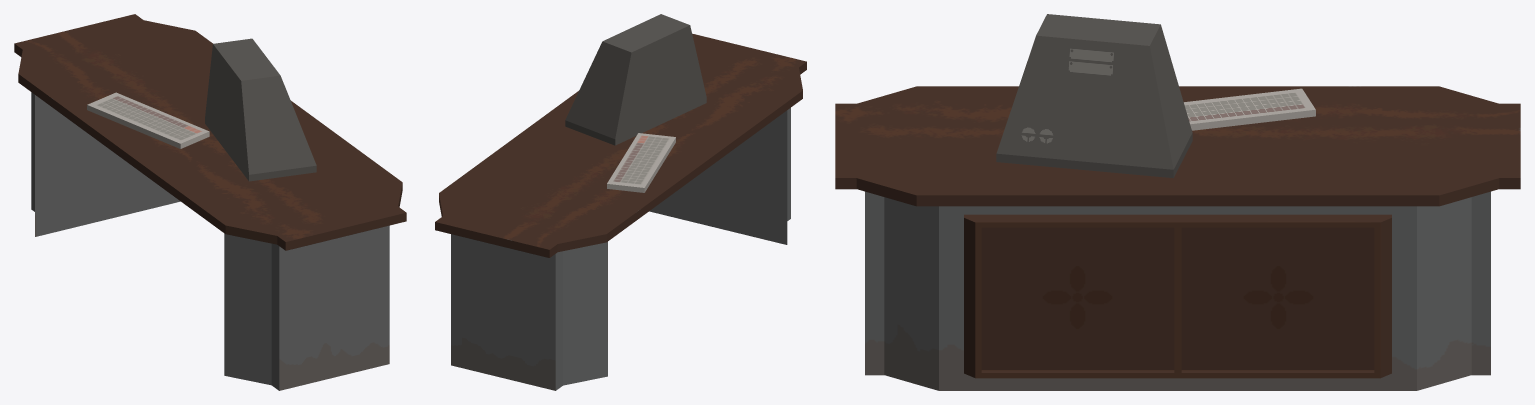
The model's file is bossDesk.obj.
3 views of the same model, side by side, from view 1: azimuth 30°, elevation 25°; view 2: azimuth 150°, elevation 25°; view 3: azimuth 270°, elevation 25° (orthographic). The views are drawn at different scales.
Parts seen in each view (by area): view 1: Cube, Cube.001, Cube.002; view 2: Cube, Cube.001, Cube.002; view 3: Cube, Cube.003, Cube.001, Cube.002.
Boxes of the visible parts, left/top/right/bottom form: Cube: left=14, top=14, right=406, bottom=390; Cube.001: left=205, top=38, right=316, bottom=181; Cube.002: left=87, top=92, right=209, bottom=148; Cube: left=435, top=33, right=806, bottom=390; Cube.001: left=565, top=14, right=706, bottom=145; Cube.002: left=607, top=133, right=675, bottom=192; Cube: left=835, top=86, right=1520, bottom=390; Cube.003: left=964, top=214, right=1391, bottom=378; Cube.001: left=996, top=14, right=1192, bottom=178; Cube.002: left=1184, top=88, right=1315, bottom=130.
Size of the model in its own units: 2.25 by 2.94 by 5.81.
Materials: 4 (4 with a texture image).
